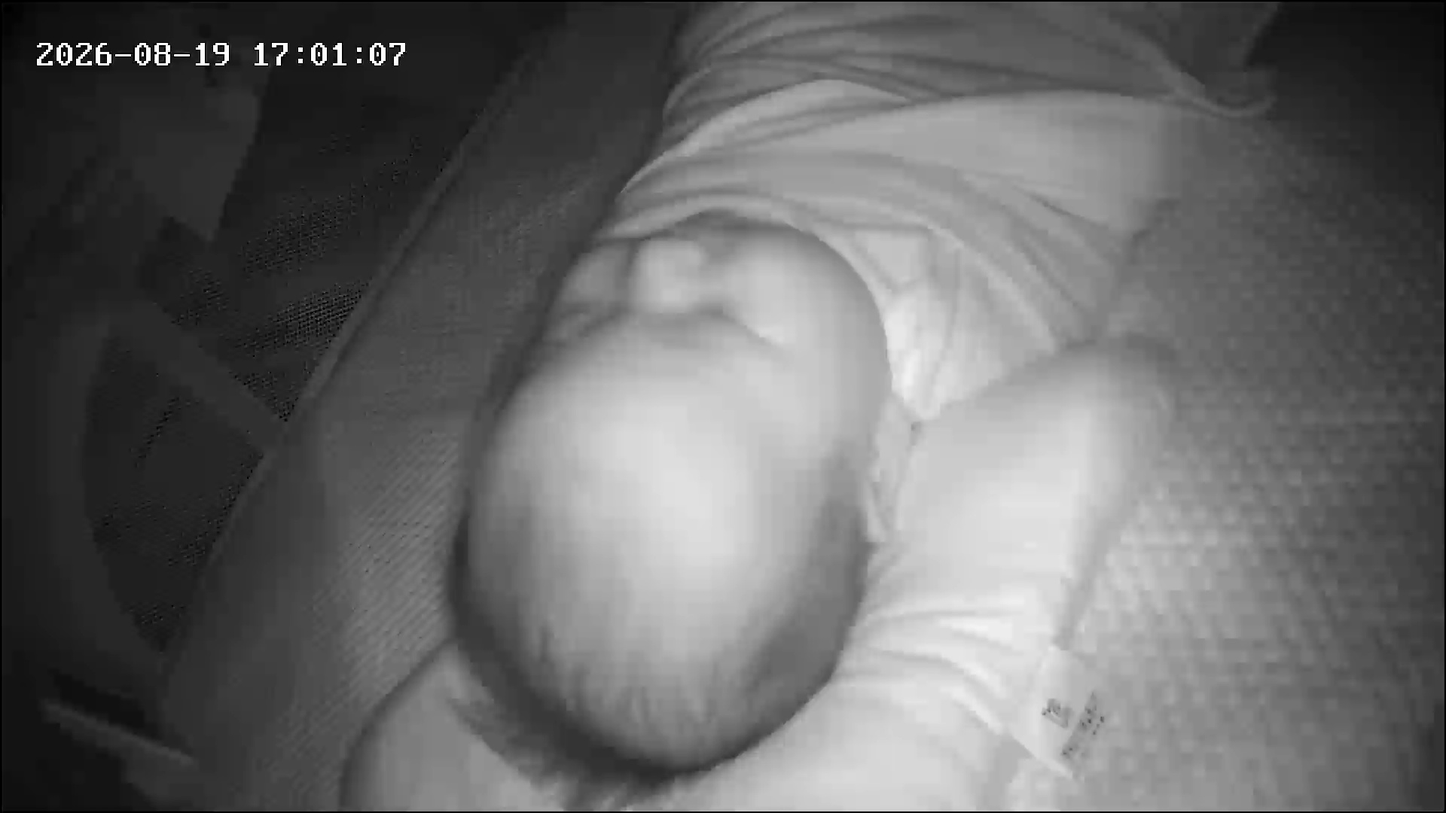baby: (417, 0, 1277, 801)
baby_face: (442, 209, 898, 787)
